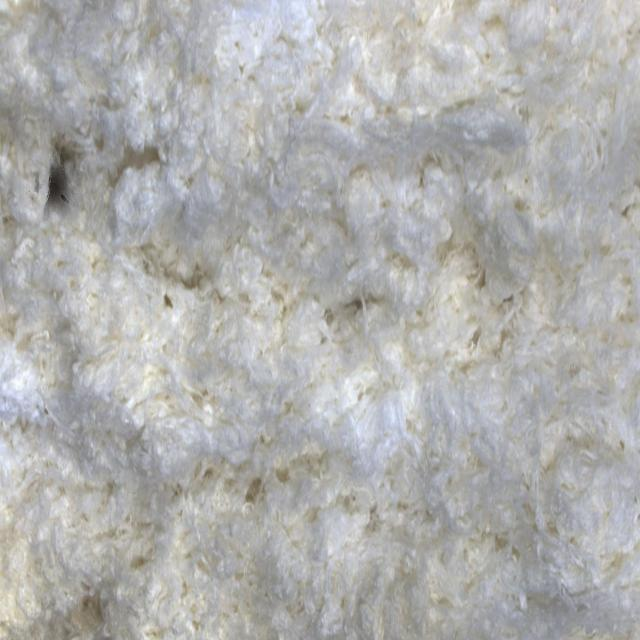dust: (20, 133, 102, 236)
